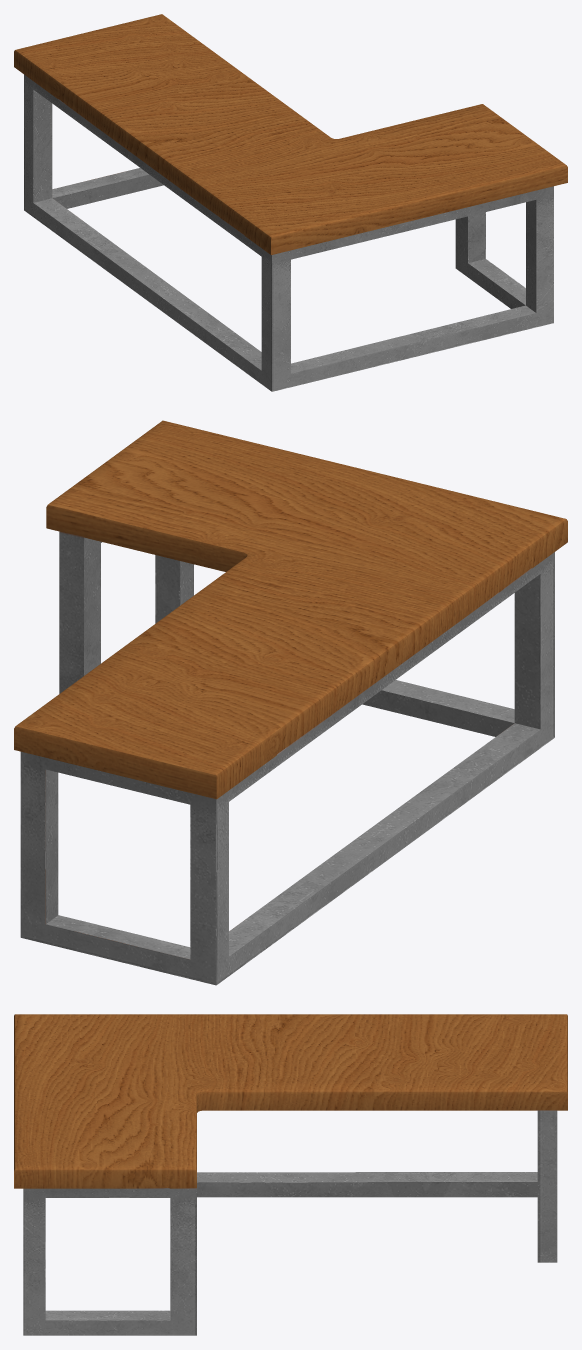
File: table 3x2 1.fbx
3 renders of one model, top to bottom at view 1: azimuth 30°, elevation 25°; view 2: azimuth 150°, elevation 25°; view 3: azimuth 270°, elevation 25°, orthographic. The views are drawn at different scales.
Parts seen in each view (by area): view 1: Cube; view 2: Cube; view 3: Cube.
Part boxes in pixels (bbox=[...]): Cube: bbox=[14, 14, 567, 391]; Cube: bbox=[14, 420, 567, 985]; Cube: bbox=[14, 1014, 567, 1335].
Bounding box in the file's own units: 133 × 68.24 × 200.
